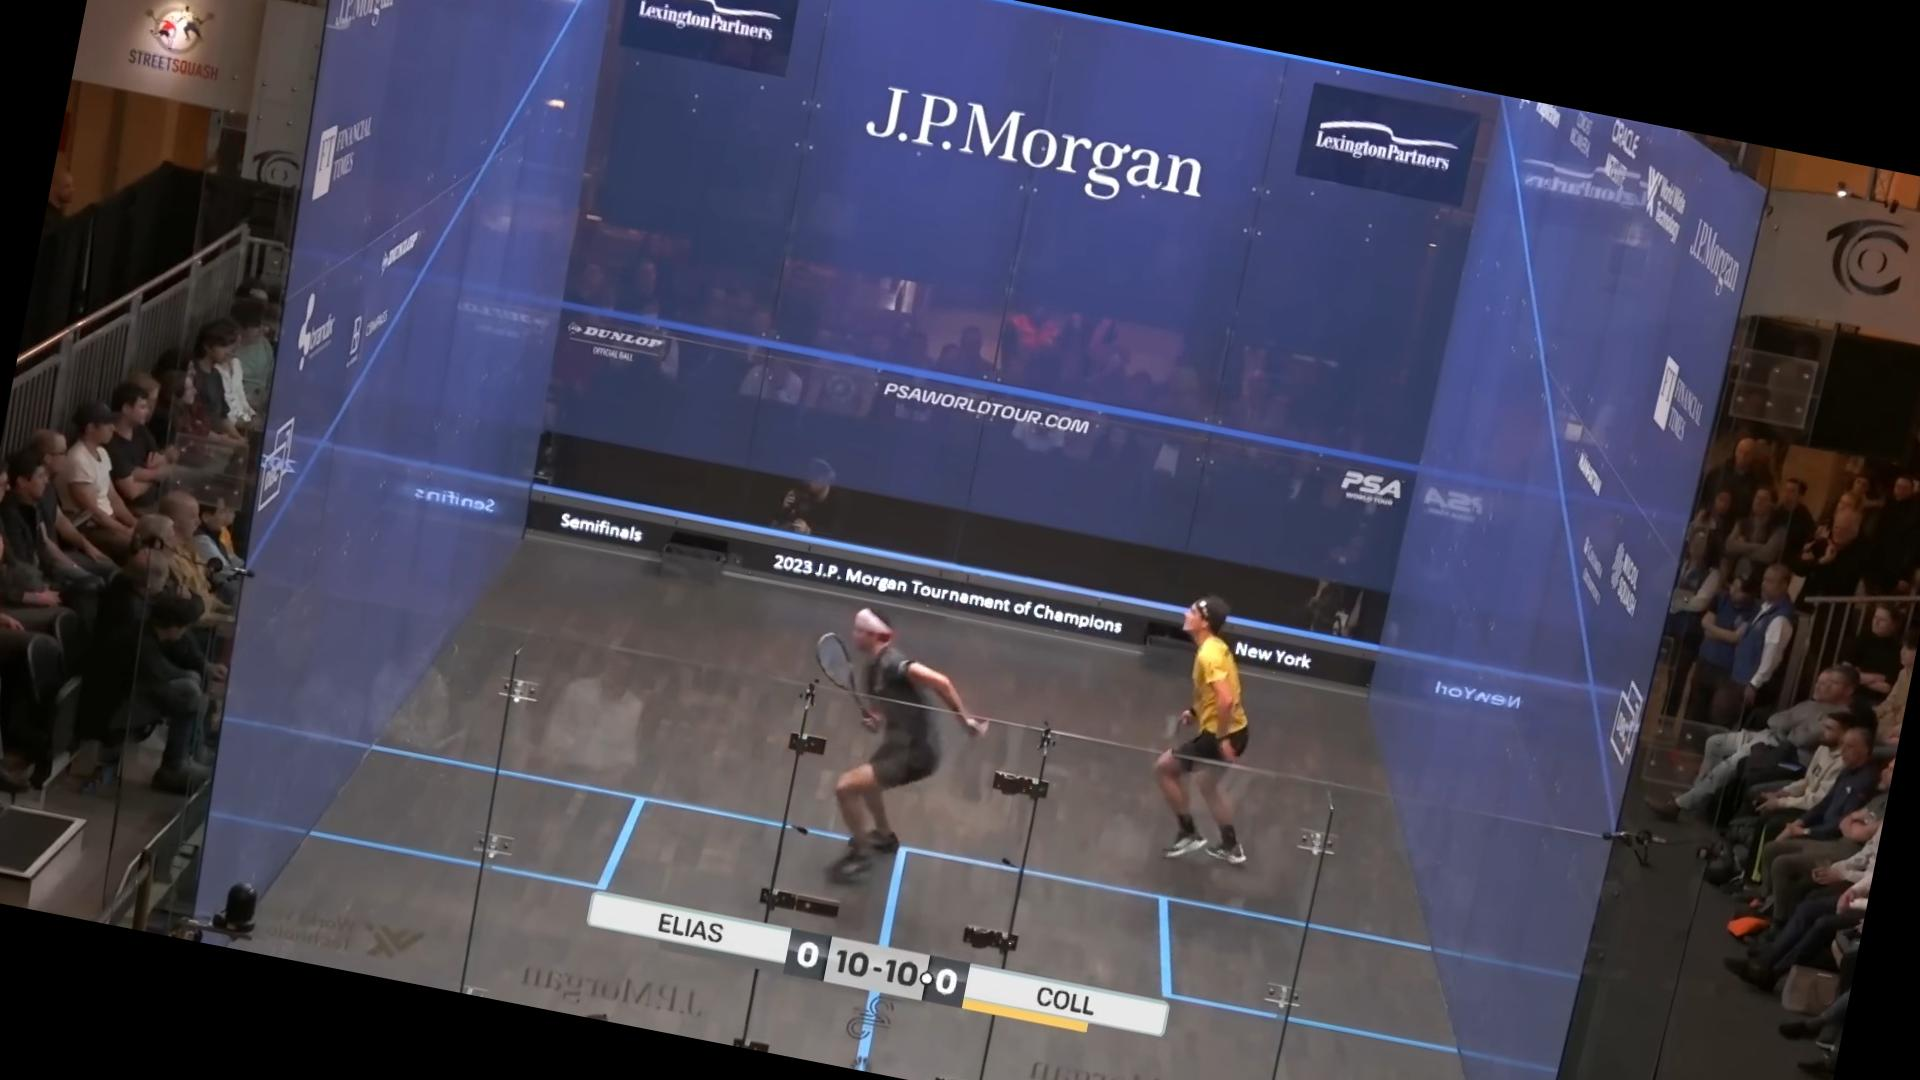Racket: (794, 615, 898, 724)
